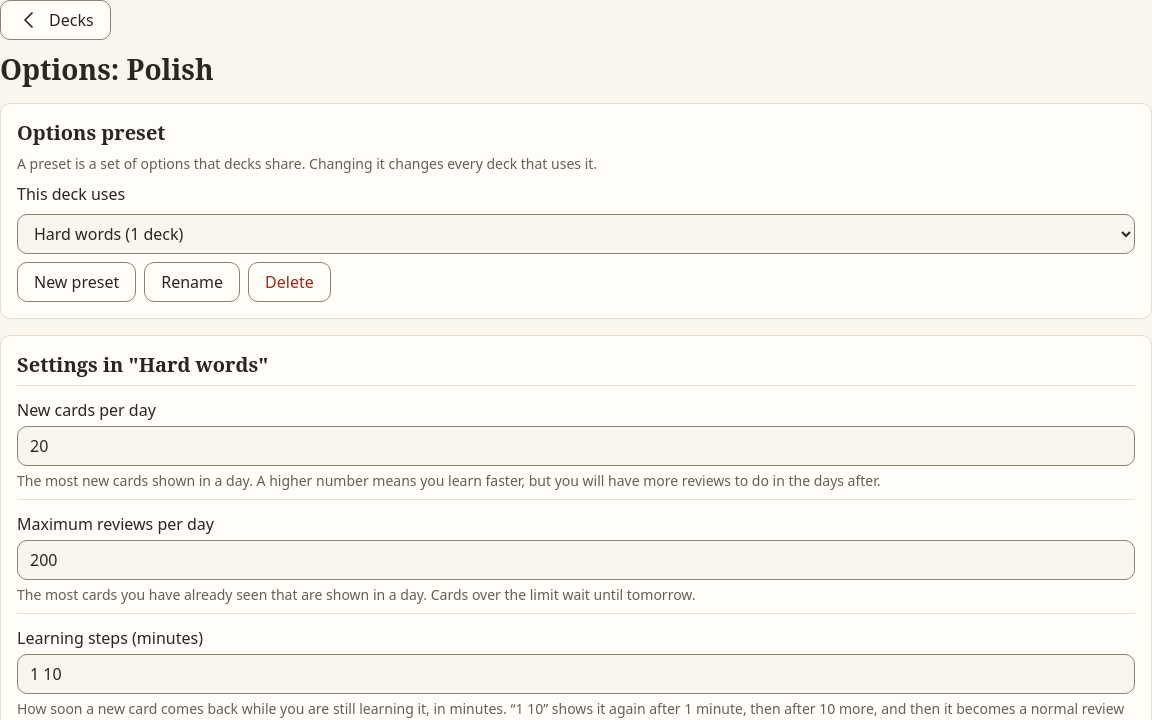
Deck options › New preset creates it and gives it to the deck
The image size is (1152, 720).
Check: the dropdown labelled "This deck uses" is shown, box [17,214,1135,254]
Click the button "New preset".
click(77, 282)  # box [17,262,136,302]
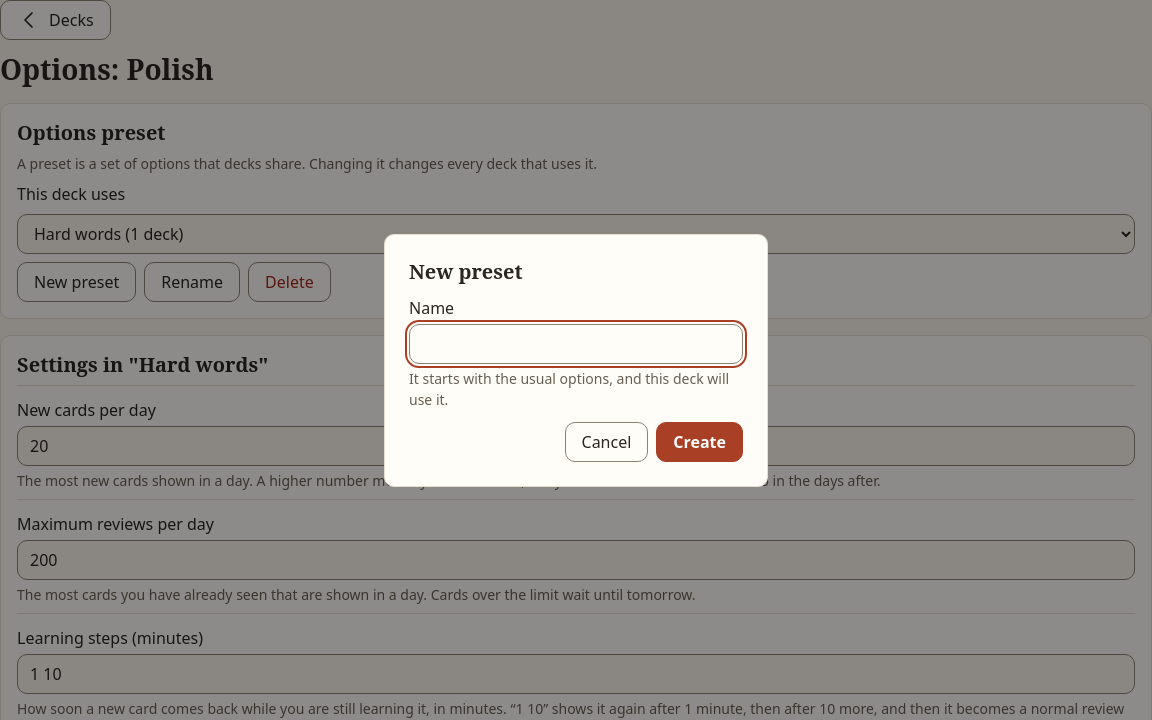
Type "Verbs" into the field labelled "Name".
click(576, 344); type("Verbs")  # box [409,324,743,364]
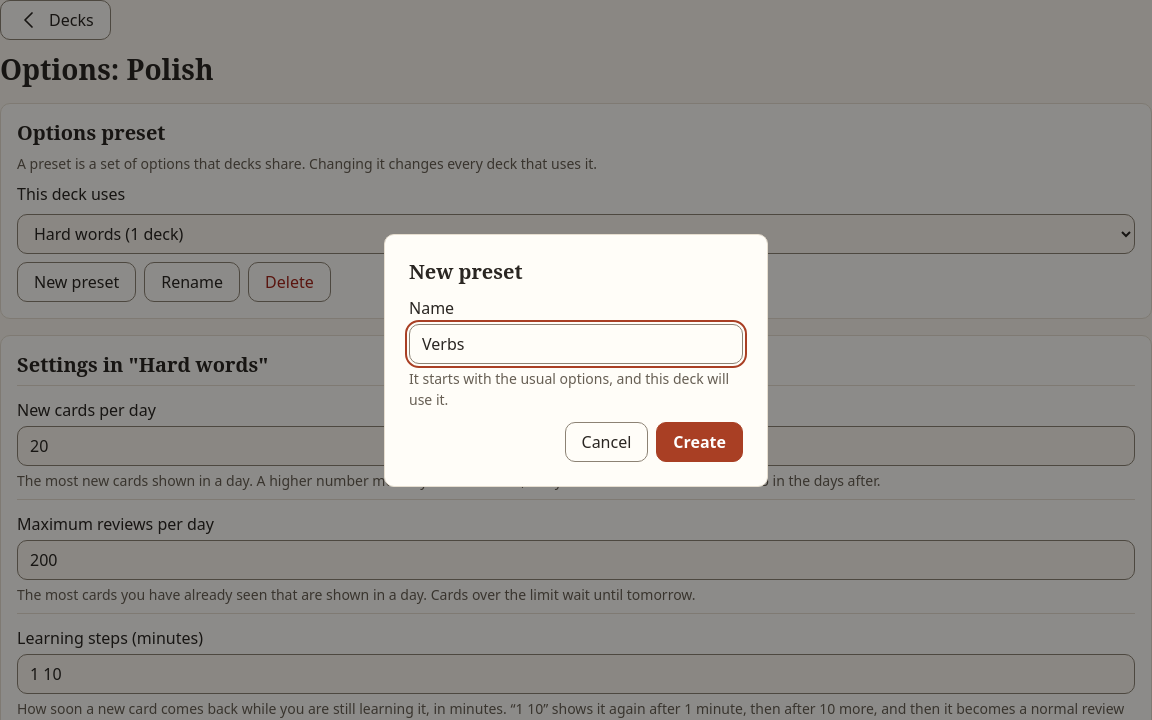
Click the button "Create".
click(700, 442)  # box [656,422,743,462]
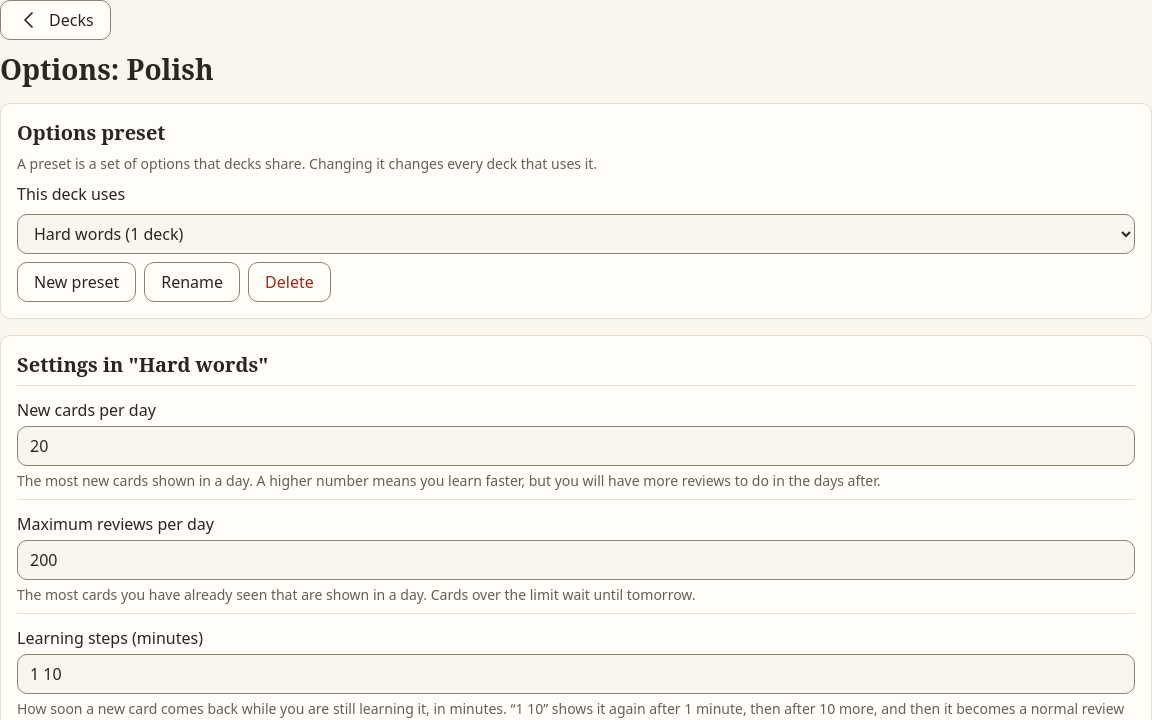
Check: the dialog is gone
